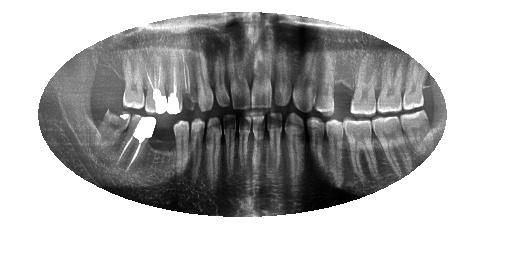i10healthy: (224, 109, 240, 191)
i11healthy: (199, 112, 226, 192)
i12healthy: (186, 111, 207, 193)
i13healthy: (169, 117, 195, 193)
i14loss: (146, 113, 181, 178)
i15healthy: (113, 112, 159, 174)
i16decay: (86, 99, 135, 162)
i1healthy: (398, 109, 435, 163)
i2healthy: (371, 108, 415, 183)
i3healthy: (341, 113, 381, 196)
i4healthy: (323, 111, 346, 189)
i5healthy: (305, 111, 325, 191)
i6healthy: (280, 109, 309, 200)
i7healthy: (265, 104, 286, 198)
i8healthy: (249, 105, 268, 196)
i9decay: (234, 108, 254, 182)
u10healthy: (210, 35, 233, 113)
u11healthy: (186, 32, 220, 115)
u12chipped: (173, 34, 200, 118)
u13healthy: (163, 32, 187, 117)
u14healthy: (139, 36, 169, 117)
u15healthy: (118, 50, 146, 116)
u16loss: (96, 57, 127, 108)
u1healthy: (401, 54, 426, 112)
u2healthy: (375, 44, 405, 117)
u3healthy: (346, 46, 383, 117)
u4loss: (328, 53, 359, 119)
u5healthy: (310, 46, 341, 117)
u6healthy: (287, 46, 321, 114)
u7healthy: (269, 40, 295, 112)
u8healthy: (245, 36, 275, 111)
u9healthy: (225, 38, 255, 114)
